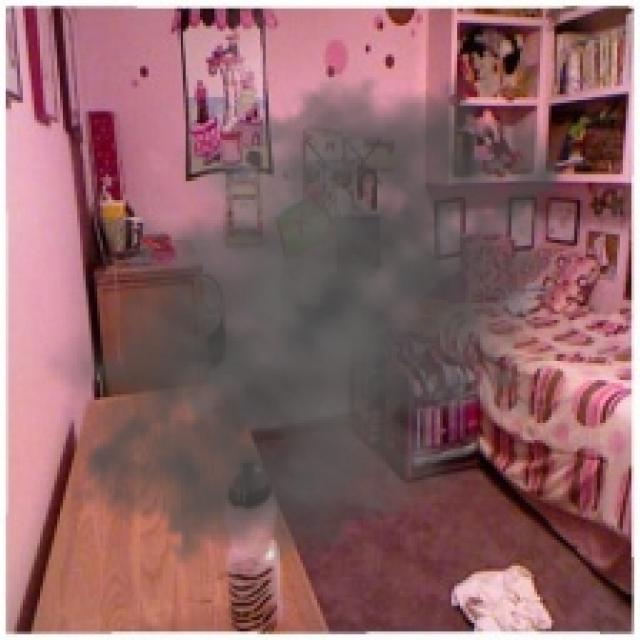smoke: (40, 34, 606, 603)
